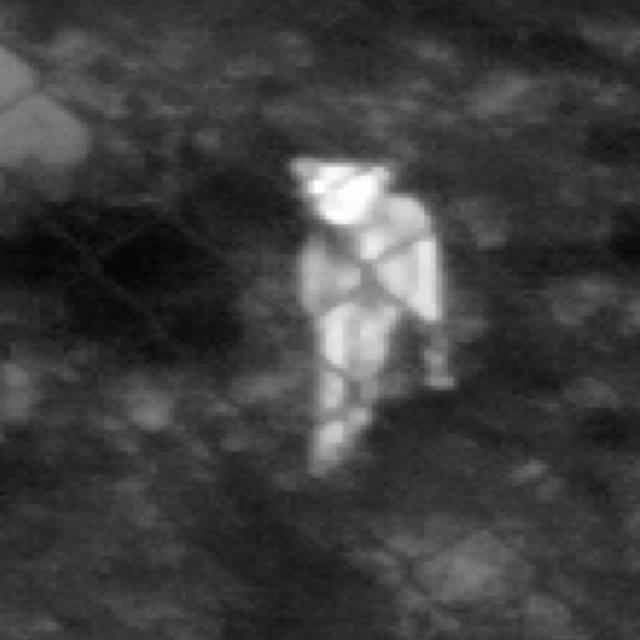cheetah: (294, 159, 454, 478)
